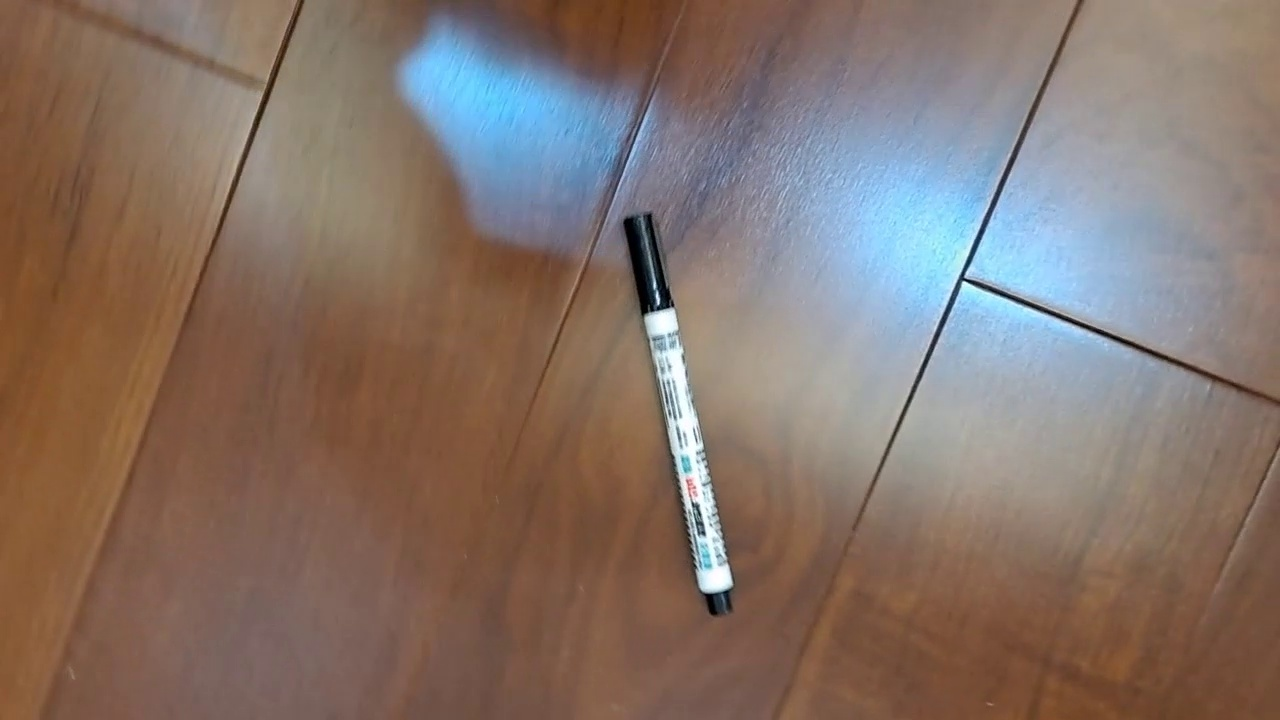pen: (621, 211, 737, 618)
